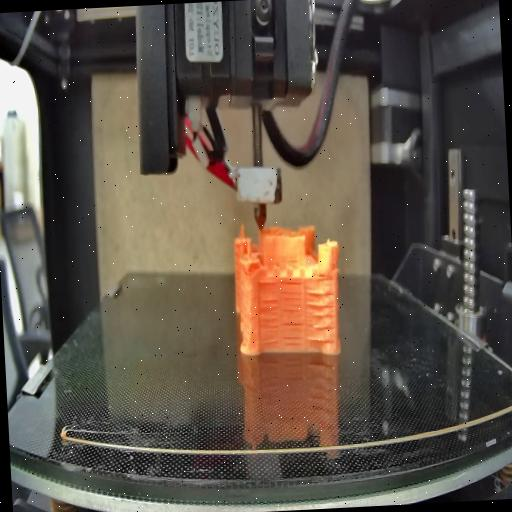cracks: (306, 289, 336, 342), (256, 297, 278, 345), (280, 278, 306, 314), (281, 319, 304, 348), (258, 278, 276, 288)
